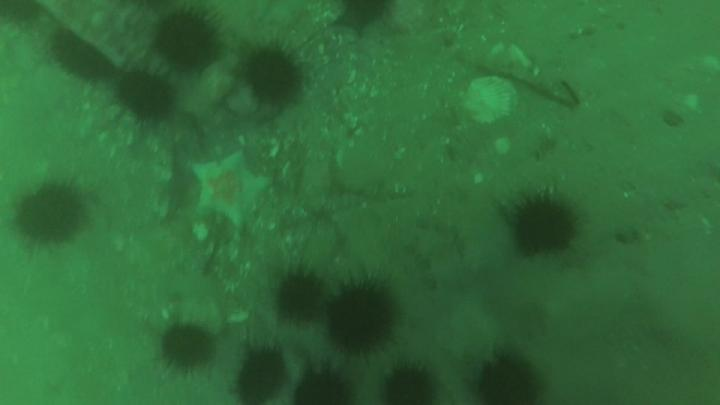echinus: (6, 173, 104, 256), (325, 271, 402, 360), (500, 185, 583, 267), (234, 32, 312, 112), (140, 6, 225, 76), (145, 310, 222, 384), (467, 341, 552, 405), (269, 259, 329, 333), (117, 64, 185, 126), (50, 28, 120, 88), (227, 339, 288, 405), (292, 353, 360, 405), (373, 358, 447, 405)
scallop: (464, 67, 522, 132)
starfish: (190, 154, 275, 230), (331, 3, 379, 41)
